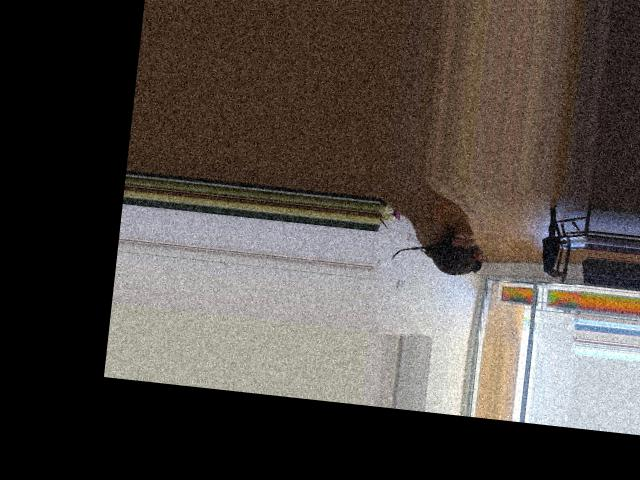beet: (391, 237, 485, 277)
